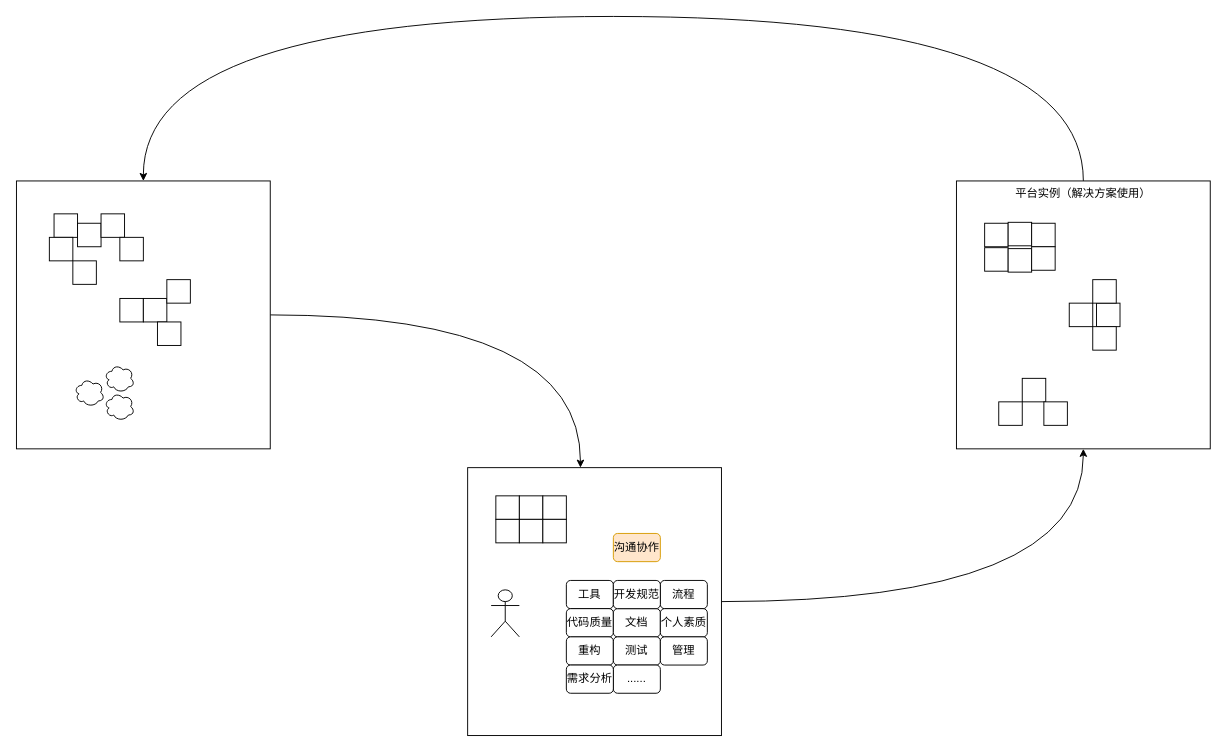
This 1227x752 diagram has some shape labels left out. The shapes that lost their labels are listed below. From the top down, each one's box as (x1, y1, x2, y2) in pixels, then its label:
(16, 180, 270, 449): 平台愿景、规划（需求空间）
(467, 467, 721, 736): 迭代（解决方案空间）
